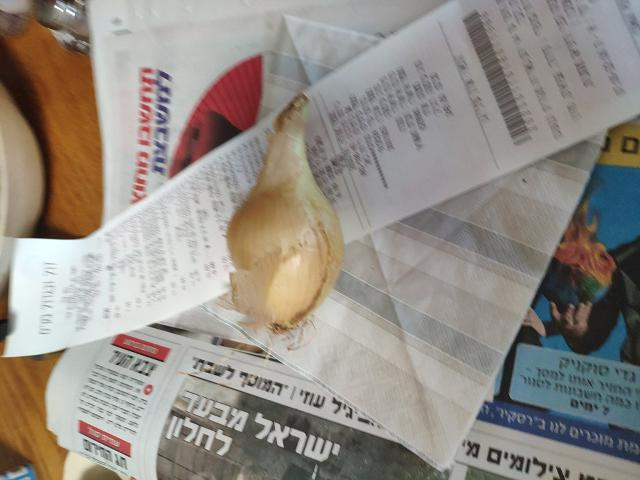onion: (224, 116, 343, 334)
